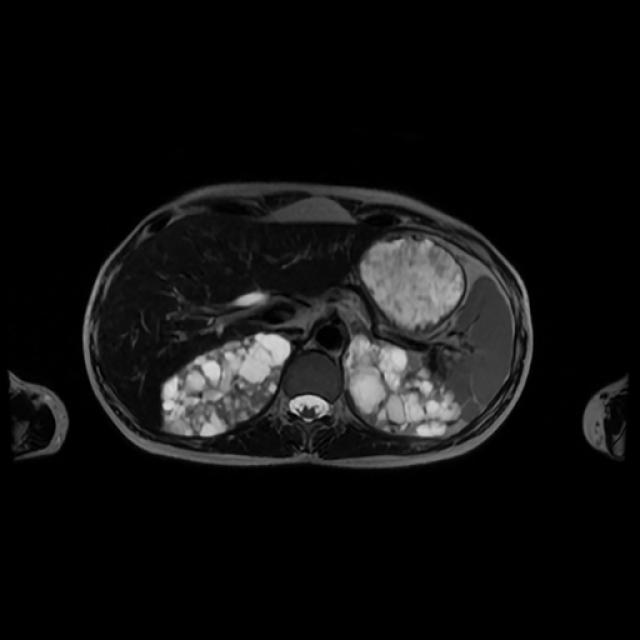sag: (166, 333, 290, 438)
sol: (348, 336, 459, 438)
